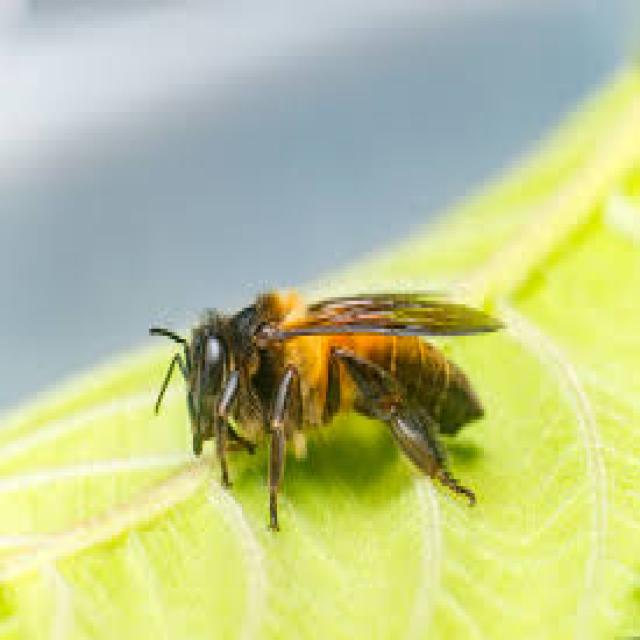Bees: (147, 284, 509, 534)
